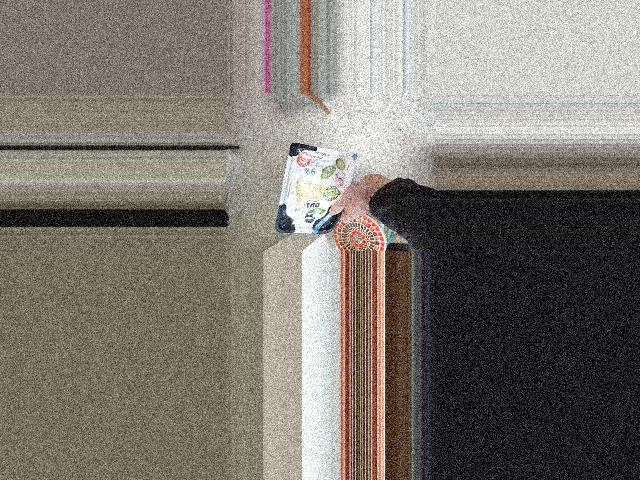cheese: (299, 151, 369, 219)
